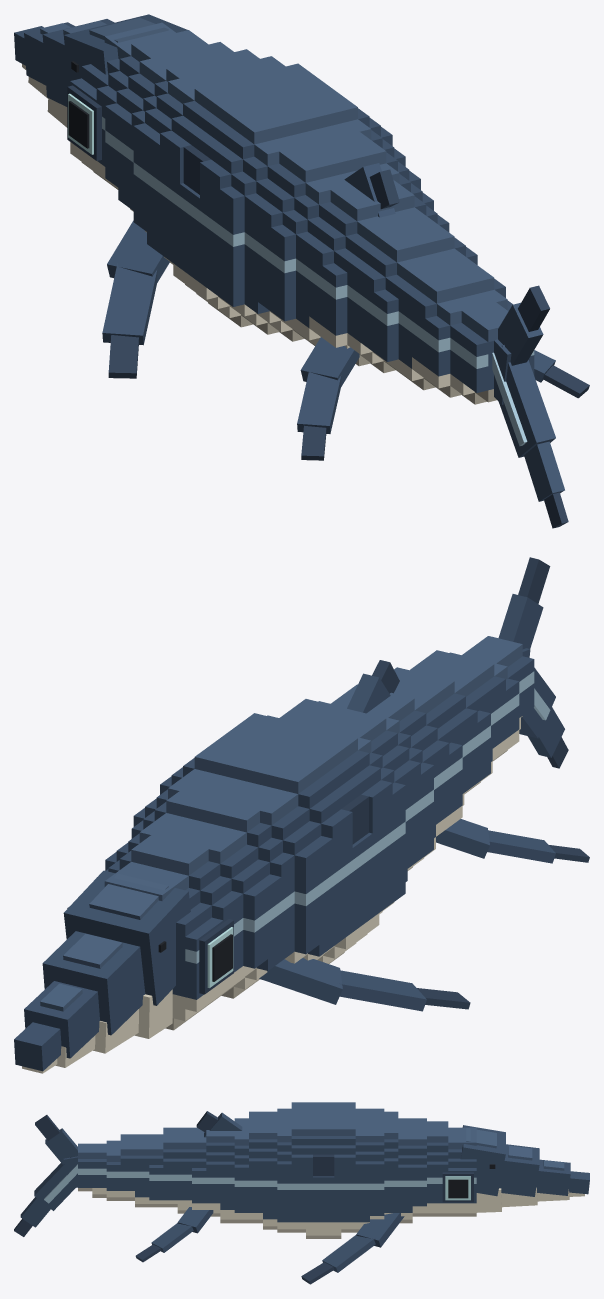
Rendered from Shonisaurus.obj.
The picture shows the model from 3 angles, top to bottom: view 1: azimuth 30°, elevation 25°; view 2: azimuth 150°, elevation 25°; view 3: azimuth 270°, elevation 25°; orthographic projection. The views are drawn at different scales.
Visible parts, largest first — view 1: Chest, Head, S3, Tail, S2, S4, S5, S6, S7, FlipperFL, S9, S8 (+3 smaller); view 2: Head, Chest, S2, Tail, S3, FlipperFL, S4, S5, S6, S7, S9, FlipperHL (+2 smaller); view 3: Head, Chest, S2, Tail, S3, S5, S4, S7, S6, FlipperFR, S8, S9 (+2 smaller).
Part boxes in pixels (box(x1,y1,x2,y2)): Chest: box(105, 42, 310, 264); Head: box(14, 14, 208, 189); S3: box(206, 97, 405, 334); Tail: box(463, 285, 568, 528); S2: box(173, 73, 344, 327); S4: box(244, 132, 420, 341); S5: box(271, 163, 433, 345); S6: box(309, 185, 449, 366); S7: box(347, 217, 477, 372); FlipperFL: box(102, 220, 169, 378); S9: box(412, 268, 512, 397); S8: box(374, 248, 480, 390); Head: box(14, 835, 243, 1073); Chest: box(105, 747, 345, 998); S2: box(208, 723, 379, 963); Tail: box(475, 557, 568, 768); S3: box(241, 713, 405, 914); FlipperFL: box(259, 958, 470, 1011); S4: box(279, 699, 420, 881); S5: box(318, 660, 435, 870); S6: box(344, 684, 462, 836); S7: box(394, 667, 477, 805); S9: box(424, 650, 519, 761); FlipperHL: box(436, 819, 589, 863); Head: box(427, 1121, 589, 1216); Chest: box(341, 1102, 426, 1232); S2: box(306, 1102, 341, 1238); Tail: box(14, 1115, 92, 1236); S3: box(277, 1102, 305, 1232); S5: box(196, 1111, 248, 1223); S4: box(249, 1111, 277, 1229); S7: box(163, 1127, 191, 1213); S6: box(192, 1127, 220, 1216); FlipperFR: box(301, 1213, 404, 1284); S8: box(135, 1134, 163, 1207); S9: box(106, 1134, 134, 1200).
Size of the model in its own units: 15.73 by 9.72 by 40.45.
Materials: 1 (1 with a texture image).
